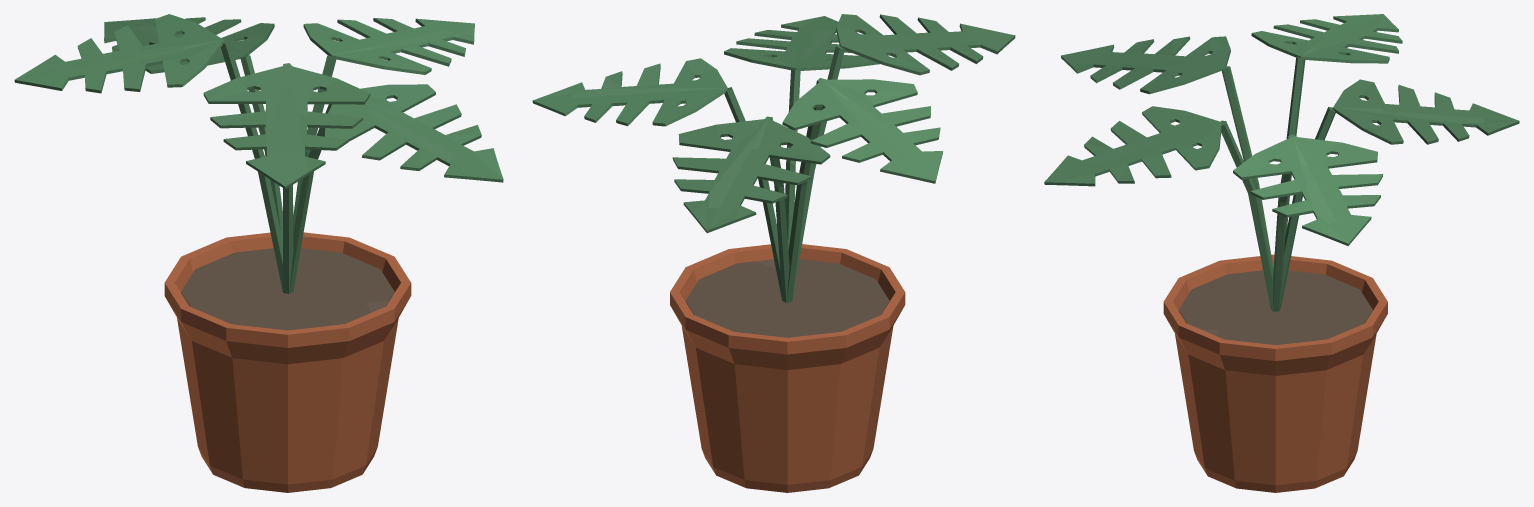
File: broadleaf.glb
3 renders of one model, left to right at view 1: azimuth 30°, elevation 25°; view 2: azimuth 150°, elevation 25°; view 3: azimuth 270°, elevation 25°, orthographic. The views are drawn at different scales.
Parts seen in each view (by area): view 1: broadleaf/review-terra-vessel, broadleaf/review-rooted-soil, broadleaf/solid-heart-split-leaf-004, broadleaf/solid-heart-split-leaf-010, broadleaf/solid-heart-split-leaf-008, broadleaf/solid-heart-split-leaf-006, broadleaf/solid-heart-split-leaf-002, broadleaf/long-petiole-007, broadleaf/long-petiole-009, broadleaf/long-petiole-003, broadleaf/long-petiole-001, broadleaf/long-petiole-005; view 2: broadleaf/review-terra-vessel, broadleaf/review-rooted-soil, broadleaf/solid-heart-split-leaf-002, broadleaf/solid-heart-split-leaf-008, broadleaf/solid-heart-split-leaf-006, broadleaf/solid-heart-split-leaf-004, broadleaf/solid-heart-split-leaf-010, broadleaf/long-petiole-007, broadleaf/long-petiole-001, broadleaf/long-petiole-005, broadleaf/long-petiole-003, broadleaf/long-petiole-009; view 3: broadleaf/review-terra-vessel, broadleaf/review-rooted-soil, broadleaf/solid-heart-split-leaf-006, broadleaf/solid-heart-split-leaf-010, broadleaf/solid-heart-split-leaf-002, broadleaf/solid-heart-split-leaf-004, broadleaf/solid-heart-split-leaf-008, broadleaf/long-petiole-009, broadleaf/long-petiole-003, broadleaf/long-petiole-005, broadleaf/long-petiole-001, broadleaf/long-petiole-007.
Part boxes in pixels (x1=…): broadleaf/review-terra-vessel: x1=164, y1=232, x2=411, y2=492; broadleaf/review-rooted-soil: x1=181, y1=248, x2=394, y2=330; broadleaf/solid-heart-split-leaf-004: x1=203, y1=65, x2=370, y2=189; broadleaf/solid-heart-split-leaf-010: x1=324, y1=84, x2=503, y2=182; broadleaf/solid-heart-split-leaf-008: x1=14, y1=14, x2=223, y2=93; broadleaf/solid-heart-split-leaf-006: x1=303, y1=18, x2=474, y2=74; broadleaf/solid-heart-split-leaf-002: x1=104, y1=17, x2=274, y2=73; broadleaf/long-petiole-007: x1=221, y1=38, x2=282, y2=291; broadleaf/long-petiole-009: x1=289, y1=104, x2=331, y2=293; broadleaf/long-petiole-003: x1=283, y1=63, x2=293, y2=293; broadleaf/long-petiole-001: x1=240, y1=55, x2=282, y2=240; broadleaf/long-petiole-005: x1=293, y1=55, x2=336, y2=231; broadleaf/review-terra-vessel: x1=670, y1=244, x2=905, y2=492; broadleaf/review-rooted-soil: x1=685, y1=259, x2=889, y2=337; broadleaf/solid-heart-split-leaf-002: x1=672, y1=118, x2=830, y2=233; broadleaf/solid-heart-split-leaf-008: x1=782, y1=79, x2=942, y2=183; broadleaf/solid-heart-split-leaf-006: x1=532, y1=58, x2=727, y2=126; broadleaf/solid-heart-split-leaf-004: x1=836, y1=14, x2=1015, y2=75; broadleaf/solid-heart-split-leaf-010: x1=724, y1=16, x2=879, y2=70; broadleaf/long-petiole-007: x1=786, y1=78, x2=825, y2=302; broadleaf/long-petiole-001: x1=765, y1=116, x2=789, y2=302; broadleaf/long-petiole-005: x1=724, y1=87, x2=782, y2=301; broadleaf/long-petiole-003: x1=792, y1=45, x2=844, y2=299; broadleaf/long-petiole-009: x1=785, y1=69, x2=800, y2=249; broadleaf/review-terra-vessel: x1=1163, y1=254, x2=1387, y2=492; broadleaf/review-rooted-soil: x1=1178, y1=270, x2=1372, y2=345; broadleaf/solid-heart-split-leaf-006: x1=1233, y1=136, x2=1383, y2=245; broadleaf/solid-heart-split-leaf-010: x1=1044, y1=106, x2=1221, y2=186; broadleaf/solid-heart-split-leaf-002: x1=1332, y1=79, x2=1519, y2=144; broadleaf/solid-heart-split-leaf-004: x1=1061, y1=36, x2=1230, y2=94; broadleaf/solid-heart-split-leaf-008: x1=1251, y1=14, x2=1402, y2=63; broadleaf/long-petiole-009: x1=1221, y1=120, x2=1273, y2=311; broadleaf/long-petiole-003: x1=1221, y1=66, x2=1273, y2=271; broadleaf/long-petiole-005: x1=1273, y1=134, x2=1296, y2=311; broadleaf/long-petiole-001: x1=1279, y1=107, x2=1335, y2=310; broadleaf/long-petiole-007: x1=1285, y1=57, x2=1305, y2=235.
Size of the model in its own units: 0.5581 by 0.5058 by 0.5724.
Materials: 3 (3 with a texture image).
